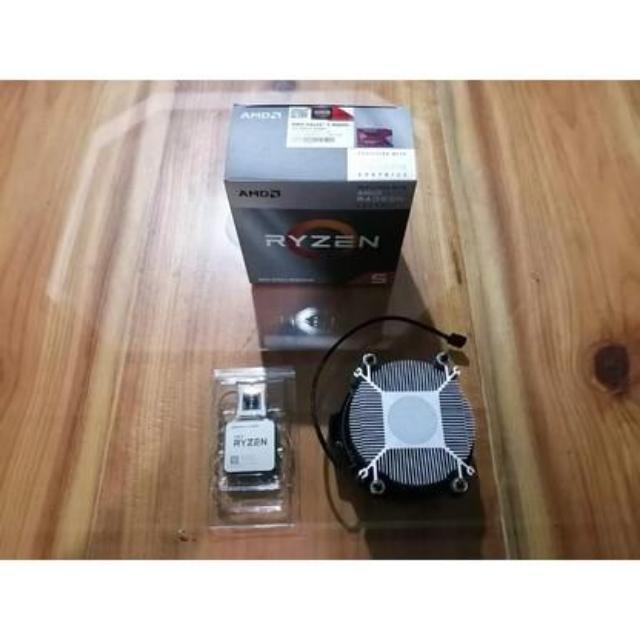CPU: (220, 416, 283, 482)
CPU_Fan: (343, 355, 483, 507)
